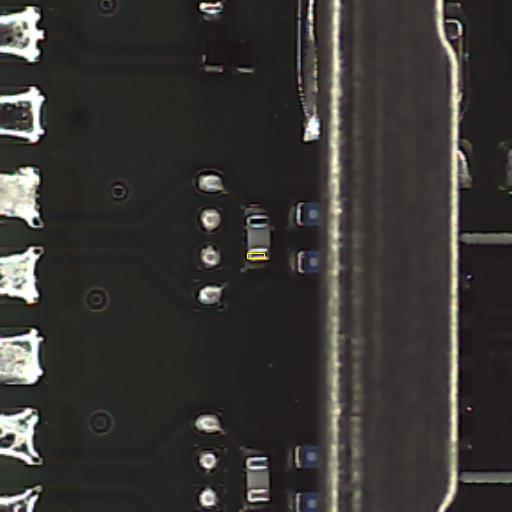bottom_layer: (244, 207, 272, 269), (243, 451, 273, 506)
top_layer: (245, 457, 270, 501), (246, 214, 270, 258)
